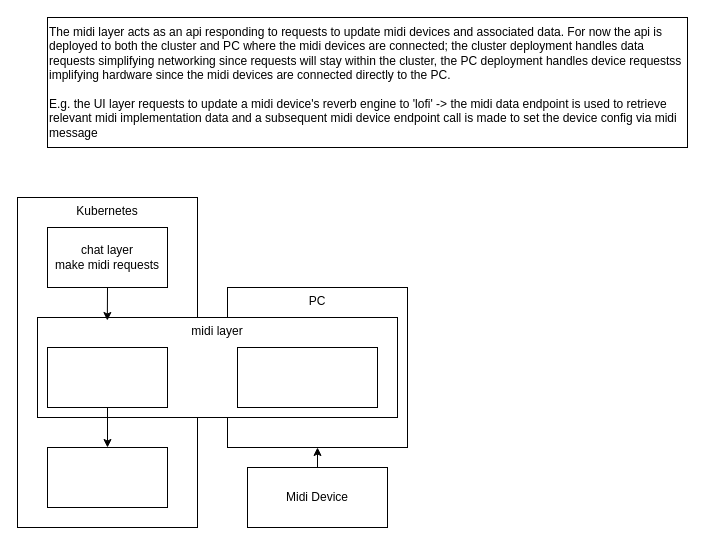
Image size: 705x545. Some labels were removed from this diagram. Each missing label, with the centre of its shape:
"Container asp .net minimal api data requests" belongs at point (107, 377).
"data/db layer get/update midi details" belongs at point (107, 477).
"Windows Service asp .net minimal api device requests" belongs at point (307, 377).
